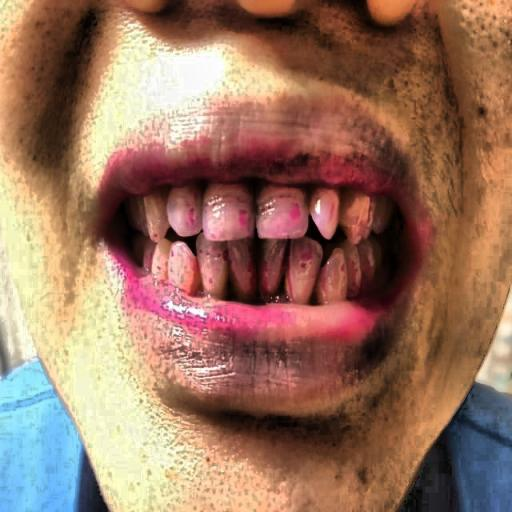Plaque: (122, 166, 398, 311)
